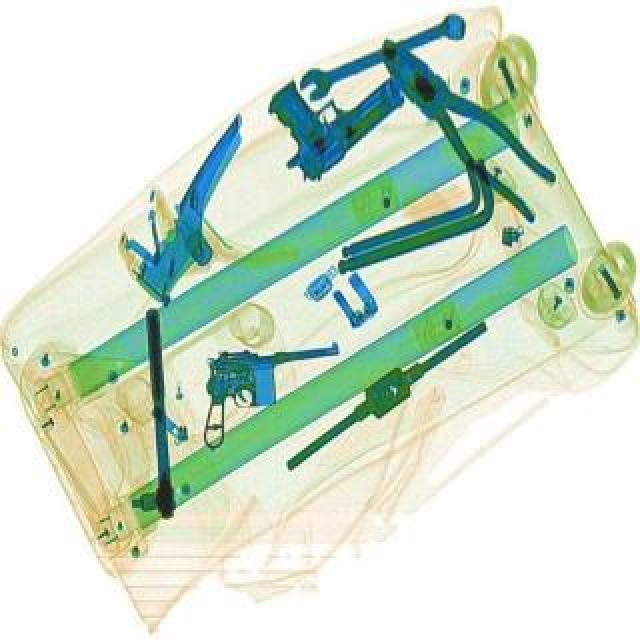gun: (240, 34, 412, 188), (194, 336, 348, 448)
scissors: (292, 6, 472, 106)
wrench: (356, 22, 572, 222)
